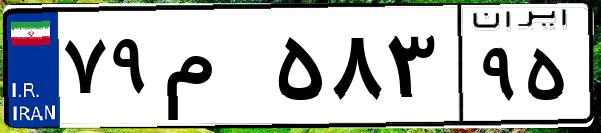3: (385, 28, 445, 110)
5: (270, 28, 330, 110), (525, 38, 570, 115)
7: (57, 26, 110, 100)
8: (330, 28, 385, 110)
9: (475, 38, 525, 113), (110, 28, 158, 98)
م: (158, 20, 270, 120)
